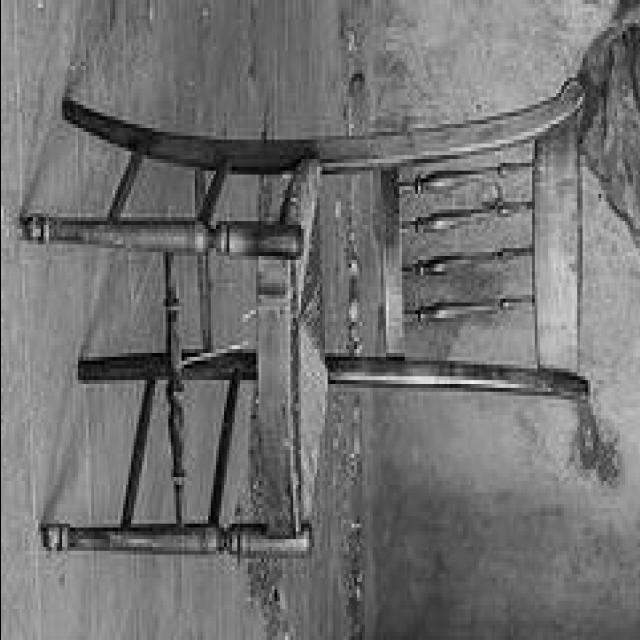chair: (18, 65, 584, 563)
